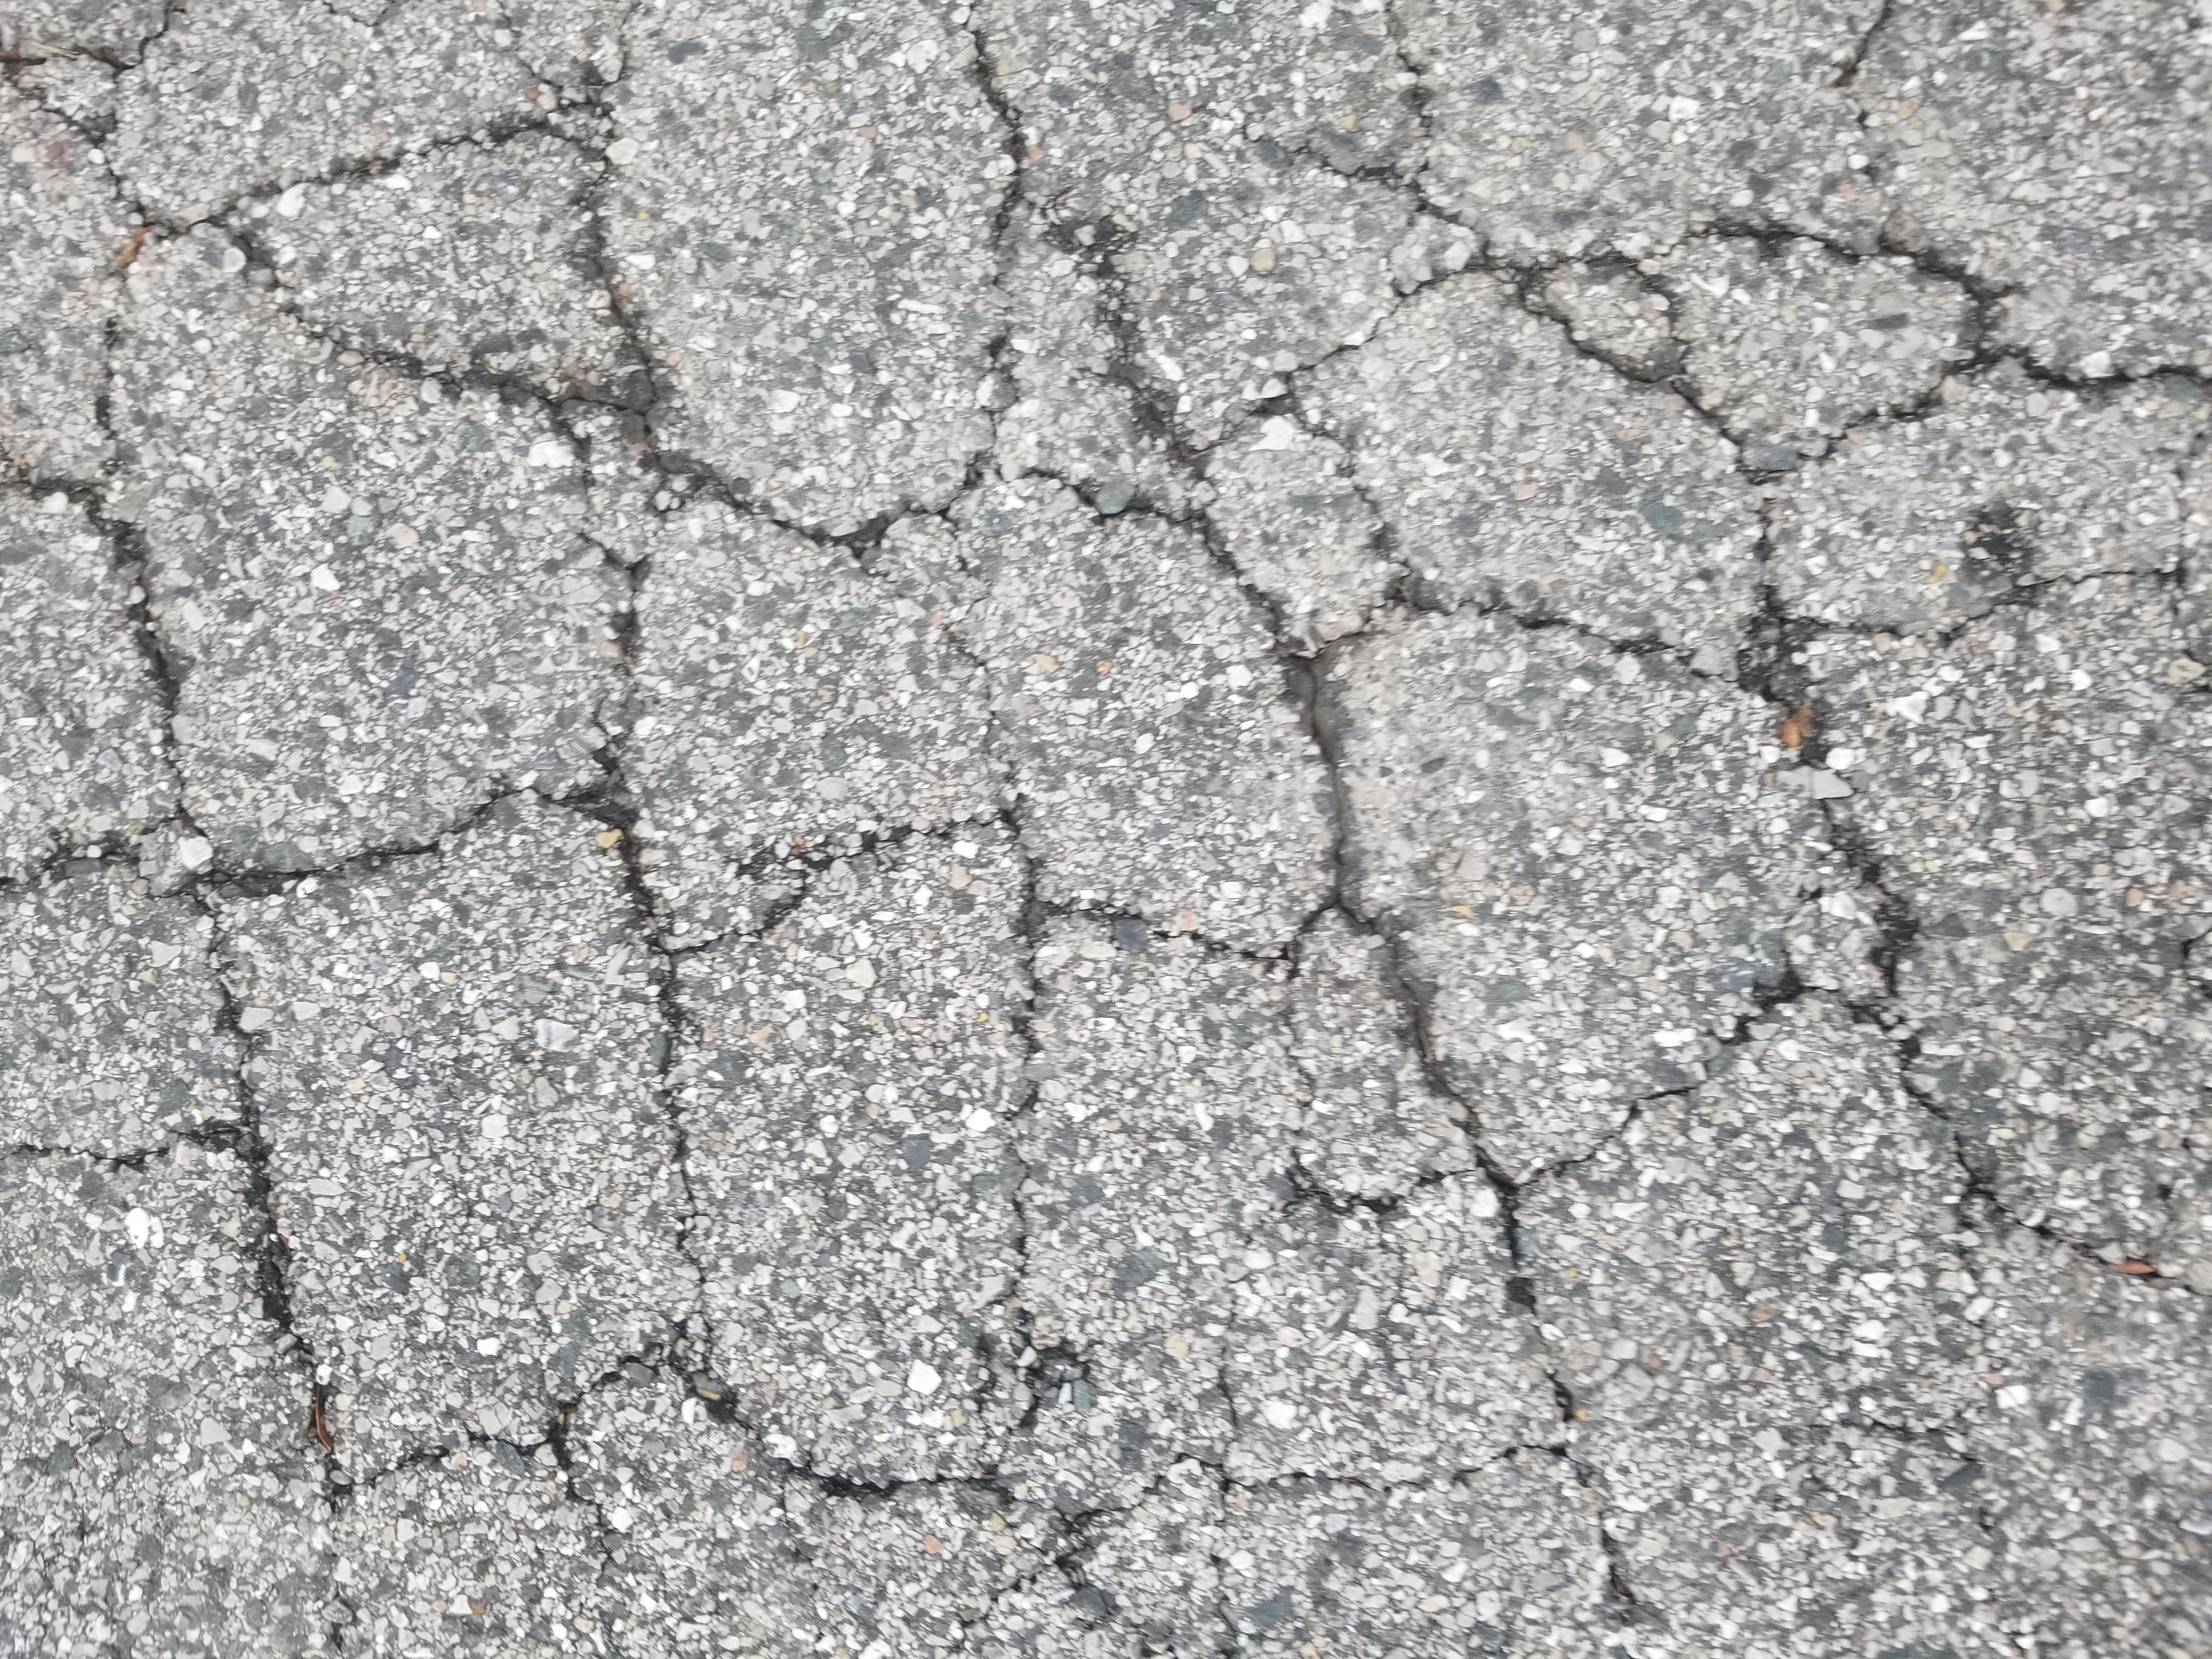alligator-crack: (73, 24, 2174, 1643)
